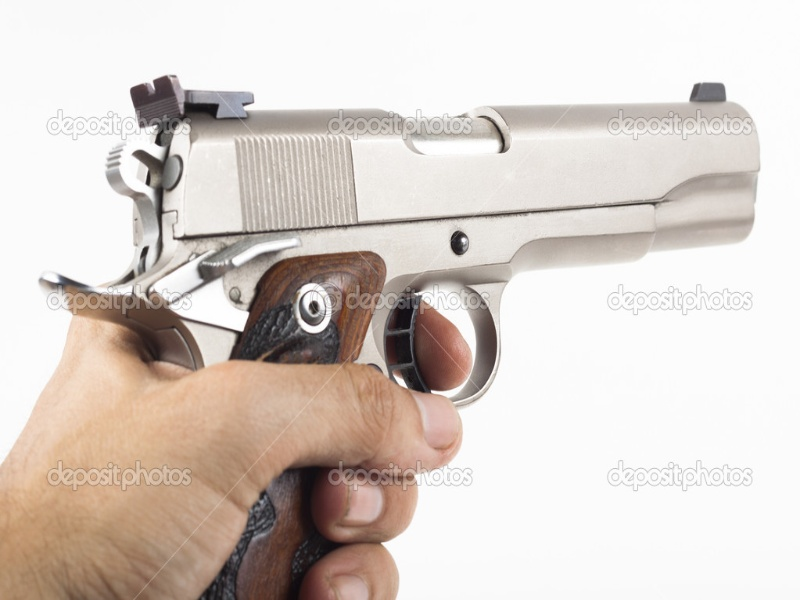gun: (33, 61, 769, 600)
